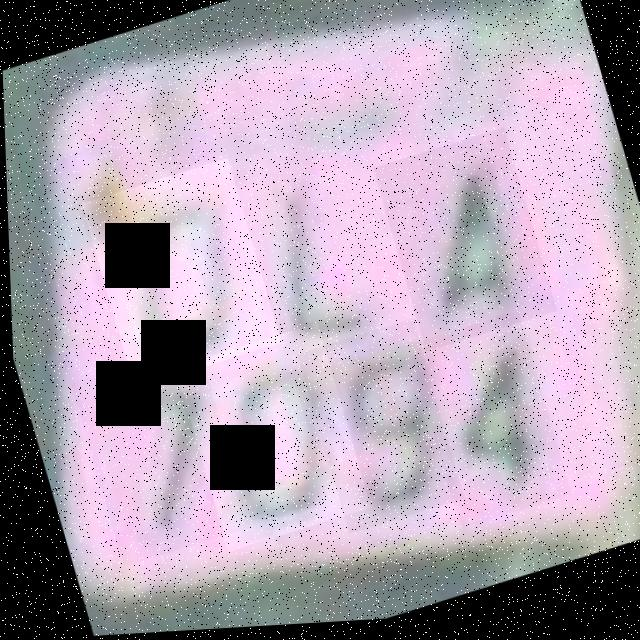0: (171, 324, 367, 556)
4: (403, 314, 568, 536)
7: (66, 343, 248, 569)
9: (293, 321, 462, 539)
N: (371, 131, 555, 358)
O: (78, 158, 279, 391)
